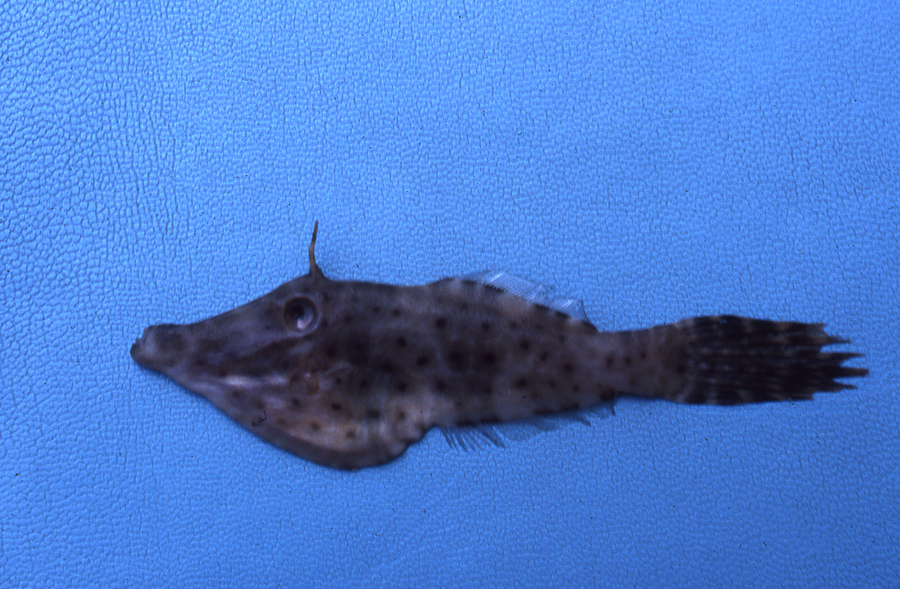Aluterus_scriptus: (127, 218, 872, 466)
